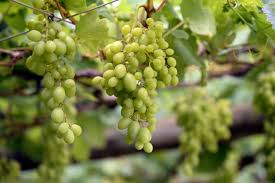grapes: (102, 21, 181, 156), (28, 18, 82, 144)
